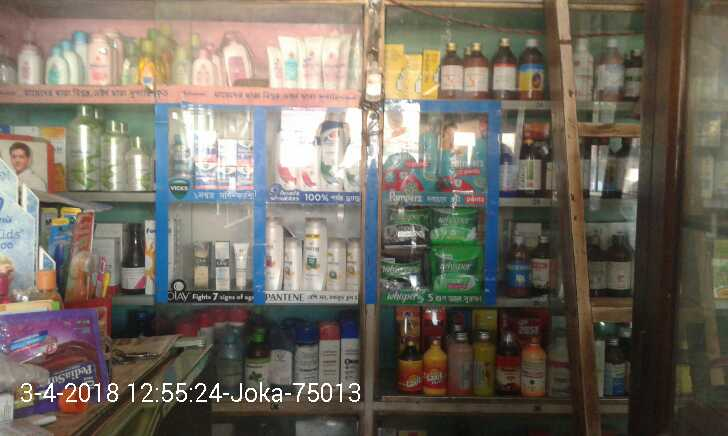vicks: (174, 131, 252, 190)
